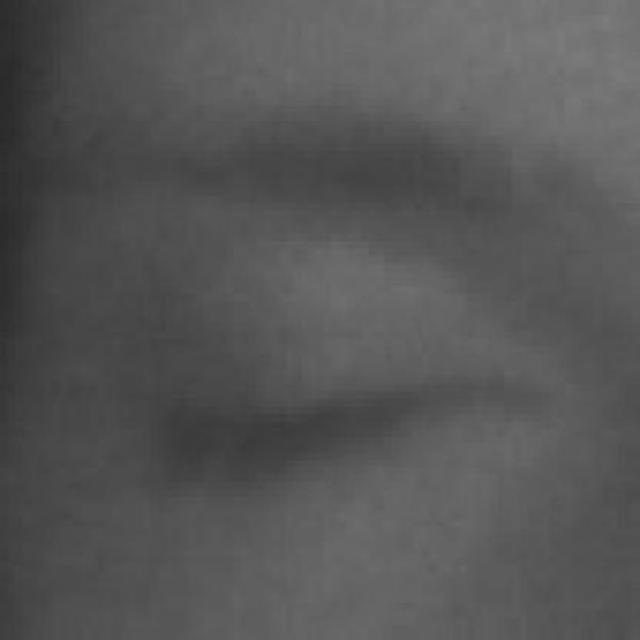drowsy: (169, 237, 537, 605)
